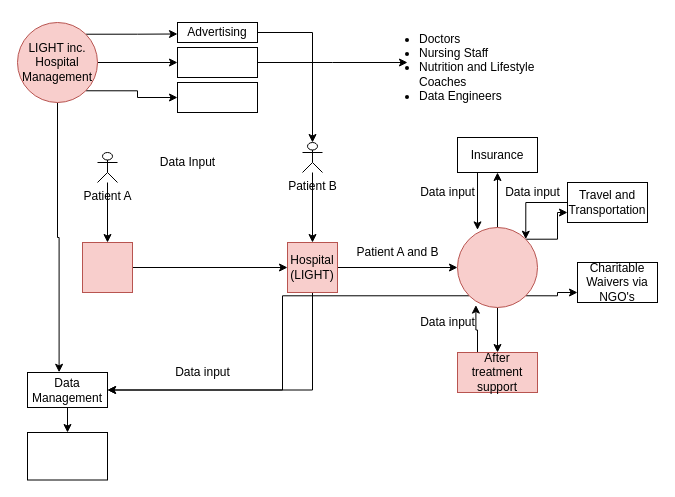
The diagram is 675 pixels wide and 497 high, and some of its shapes have lost their labels. Each missing label, with the centre of its shape:
Data Consutancy: [67,456]
LIGHT inc. Patient Management: [497,267]
Medical Tourism: [217,97]
Path Lab: [107,267]
Talent Acquisition: [217,62]
